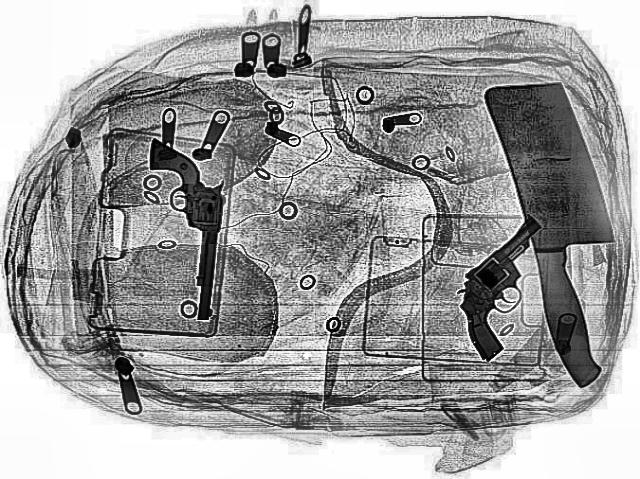Gun: (411, 217, 609, 361), (140, 138, 226, 320)
Knife: (479, 77, 638, 388)
